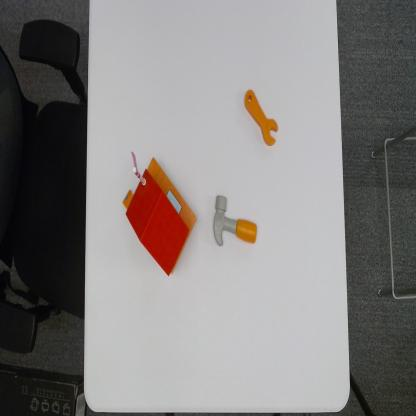Hammer: (212, 192, 259, 248)
House: (123, 147, 198, 280)
Screwdriver: (244, 87, 279, 146)
